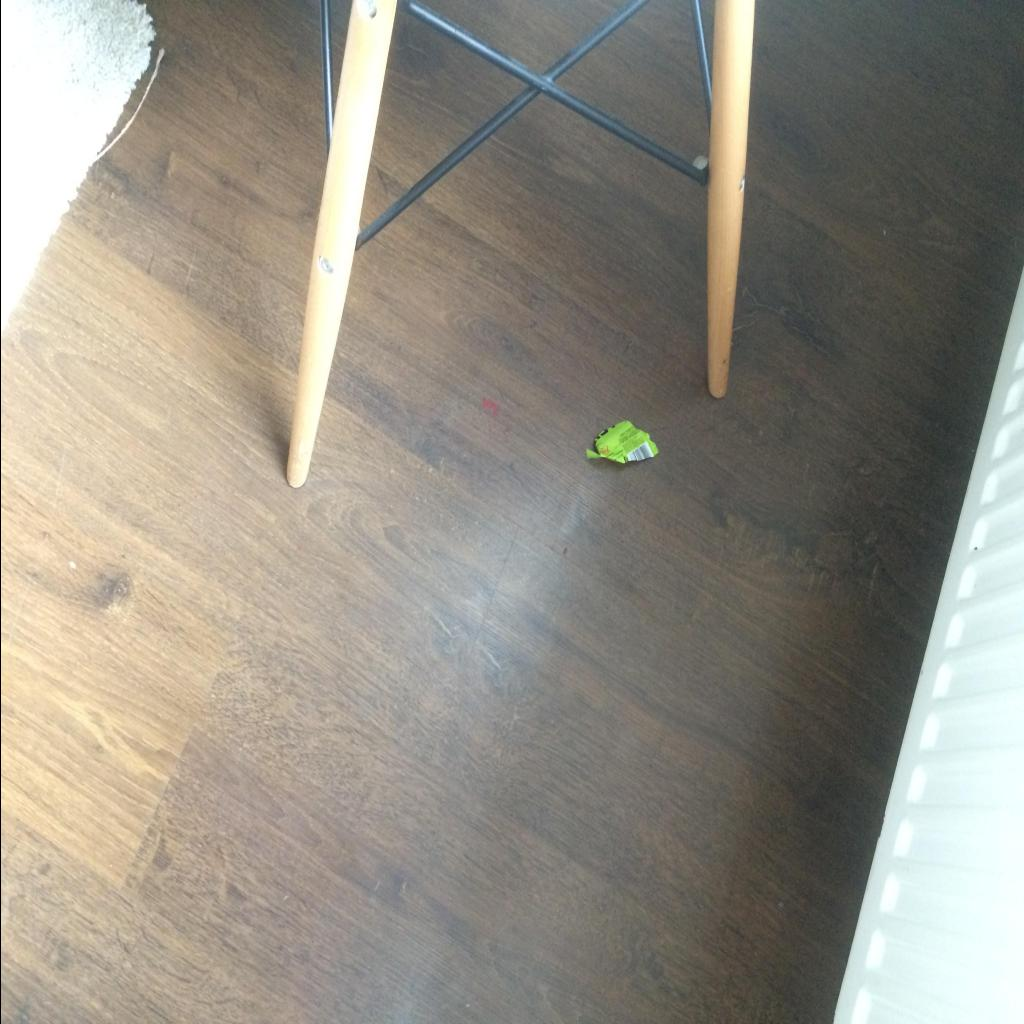Other plastic: (584, 420, 658, 463)
